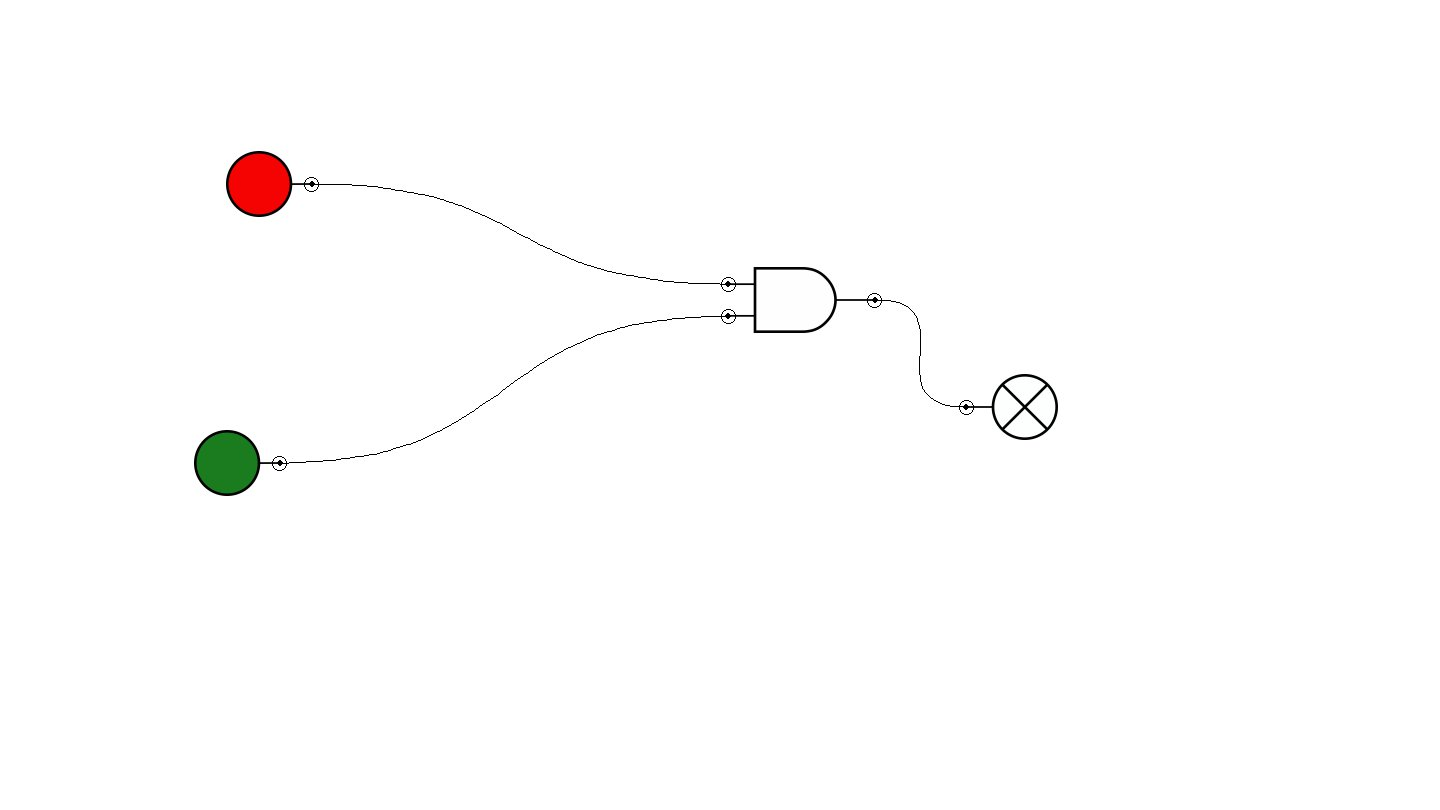and: (721, 267, 882, 333)
bulb: (959, 374, 1058, 440)
switch_False: (226, 151, 319, 217)
switch_True: (194, 430, 287, 496)
